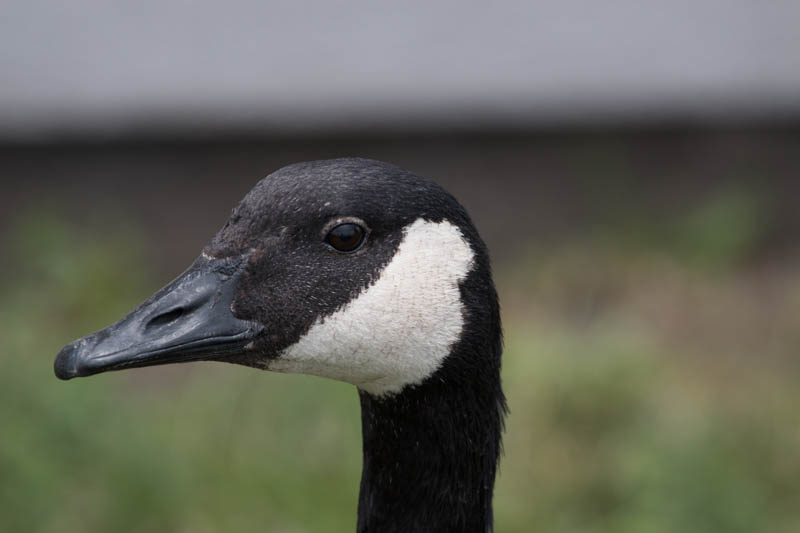goose-head: (54, 157, 502, 397)
